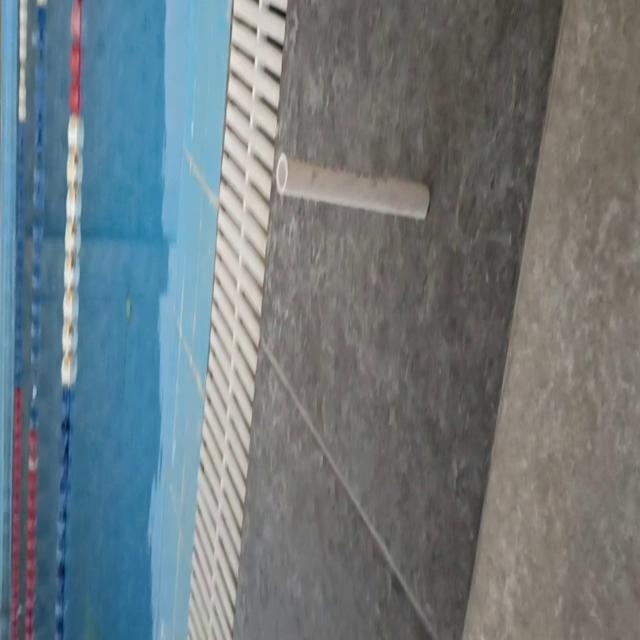Cube: (274, 154, 432, 224)
